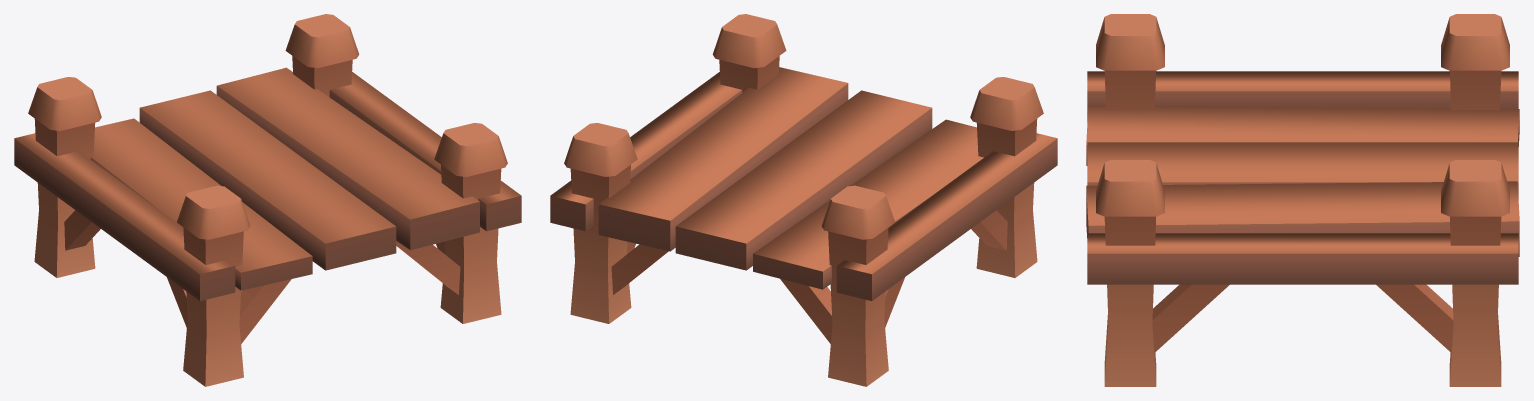
The model's file is kenney-pirate-kit-structure-platform-dock.glb.
3 renders of one model, left to right at view 1: azimuth 30°, elevation 25°; view 2: azimuth 150°, elevation 25°; view 3: azimuth 270°, elevation 25°, orthographic. The views are drawn at different scales.
Visible parts, largest first — view 1: structure-platform-dock; view 2: structure-platform-dock; view 3: structure-platform-dock.
Part boxes in pixels (left/top/right/bottom): structure-platform-dock: left=14, top=14, right=521, bottom=386; structure-platform-dock: left=550, top=14, right=1057, bottom=386; structure-platform-dock: left=1086, top=14, right=1519, bottom=386.
Size of the model in its own units: 2.98 by 1.57 by 3.
1 material, 1 textured.
